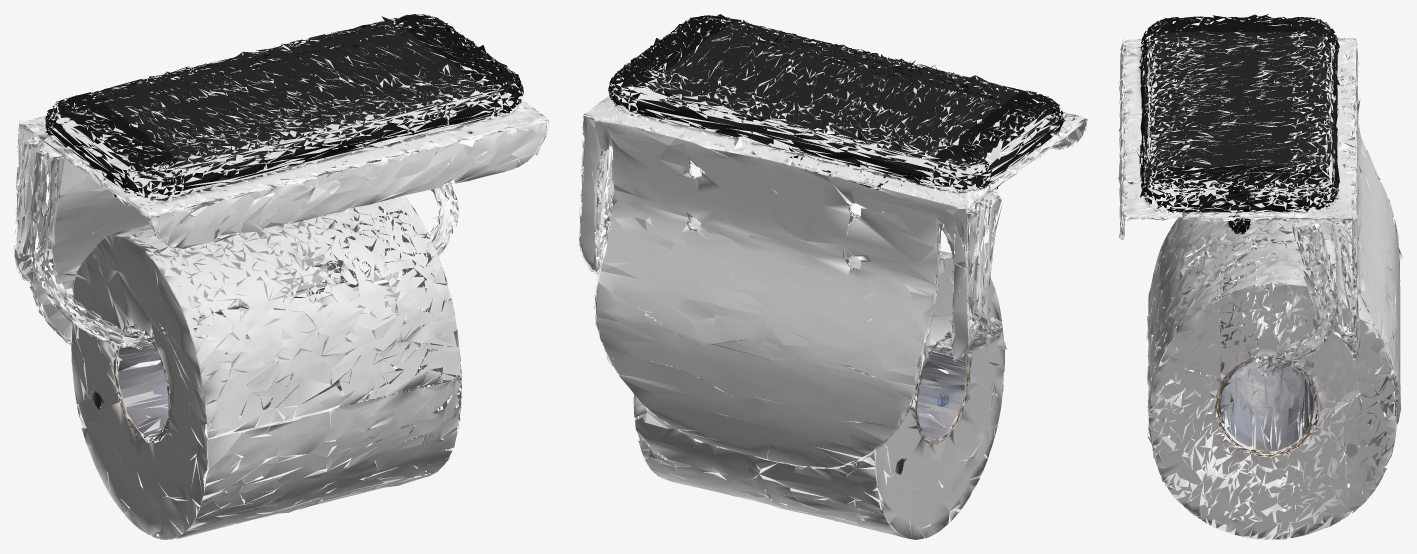
File: mk2-toilet-paper-holder.glb
The picture shows the model from 3 angles, left to right: view 1: azimuth 30°, elevation 25°; view 2: azimuth 150°, elevation 25°; view 3: azimuth 270°, elevation 25°; orthographic projection. The views are drawn at different scales.
Visible parts, largest first — view 1: mesh_node; view 2: mesh_node; view 3: mesh_node.
Boxes of the visible parts, <box> form: mesh_node: <box>14,14,548,539</box>; mesh_node: <box>578,14,1087,539</box>; mesh_node: <box>1117,14,1402,539</box>.
Size of the model in its own units: 1.94 by 1.89 by 1.26.
1 material, 1 textured.
